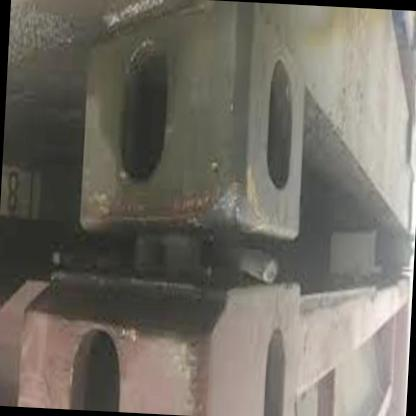CornerCasting: (75, 20, 314, 250), (31, 268, 299, 415)
